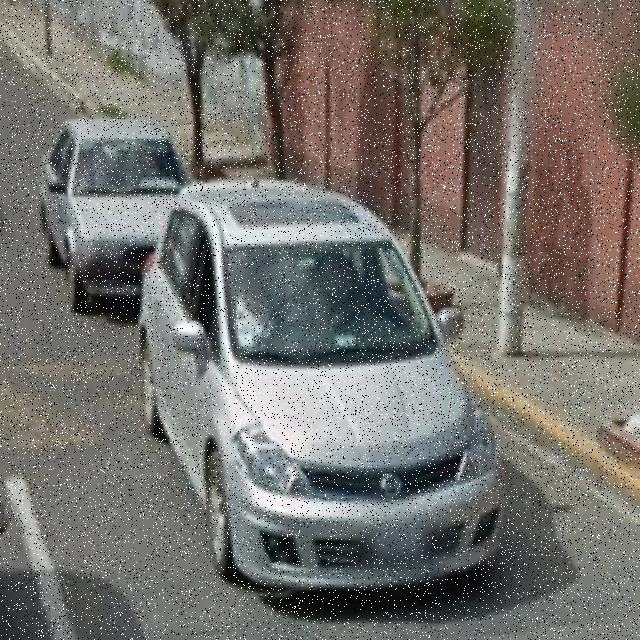cars: (145, 189, 504, 613), (23, 104, 166, 300)
